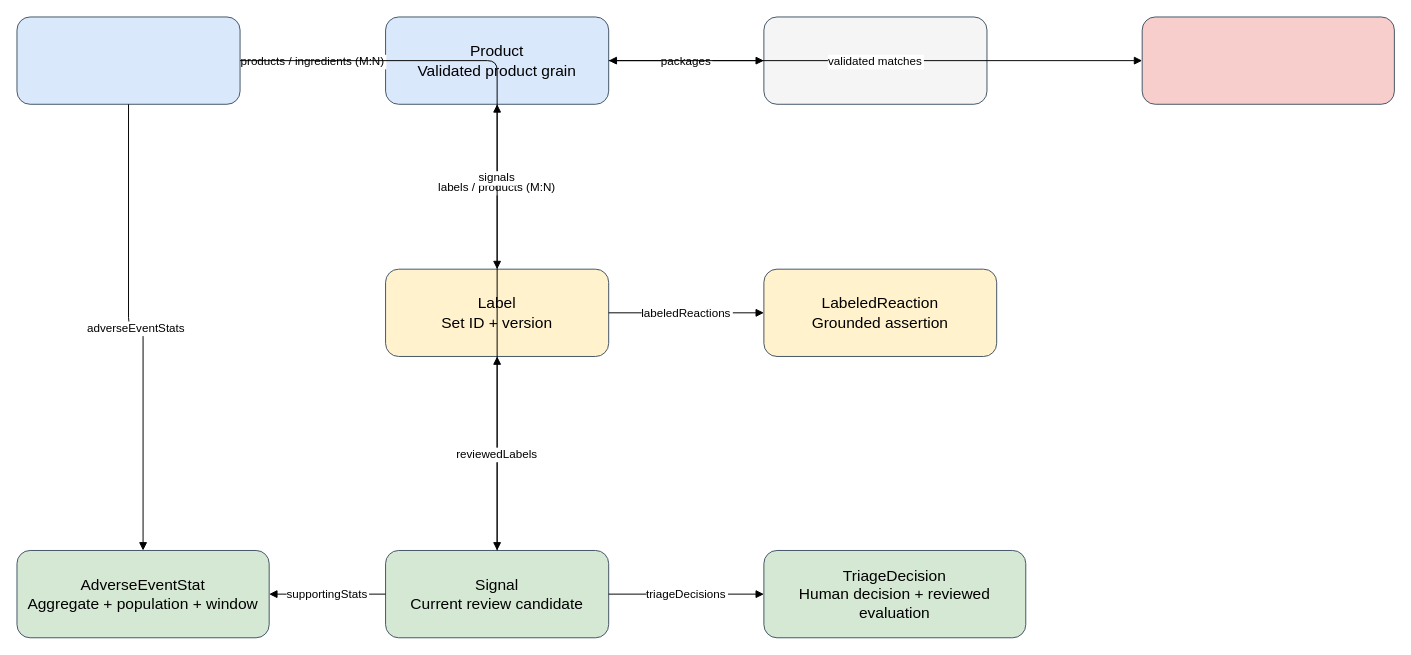
This 1411x655 diagram has some shape labels left out. Here are the shapes that lost their labels. From the top down, the box of each, then its label:
(16, 16, 240, 104): Drug Ingredient identity
(763, 16, 987, 104): Package Optional object
(1141, 16, 1394, 104): Recall Source record + match evidence
